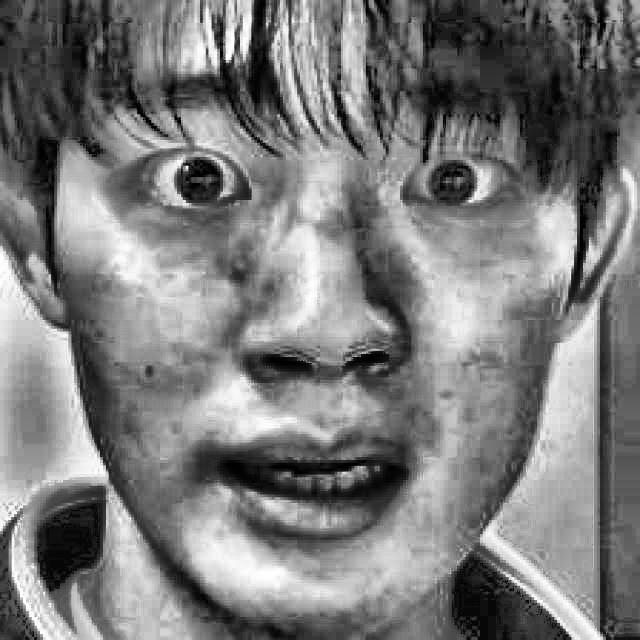fear: (58, 46, 568, 550)
